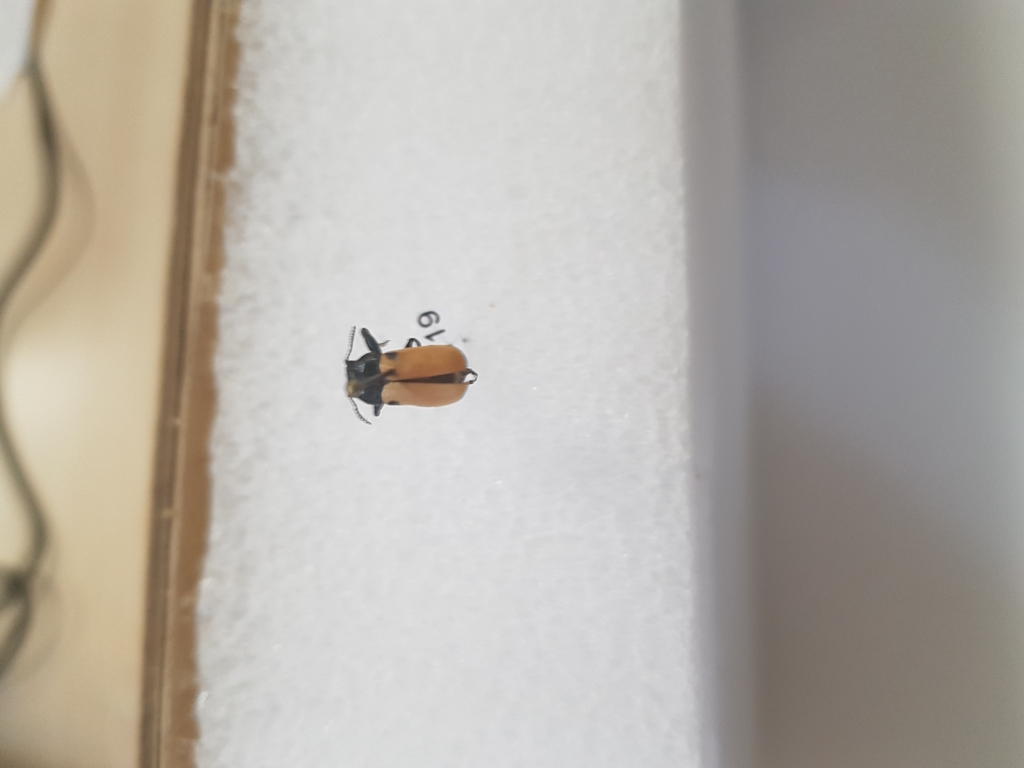Labidostomis_propinqua: (339, 317, 484, 433)
